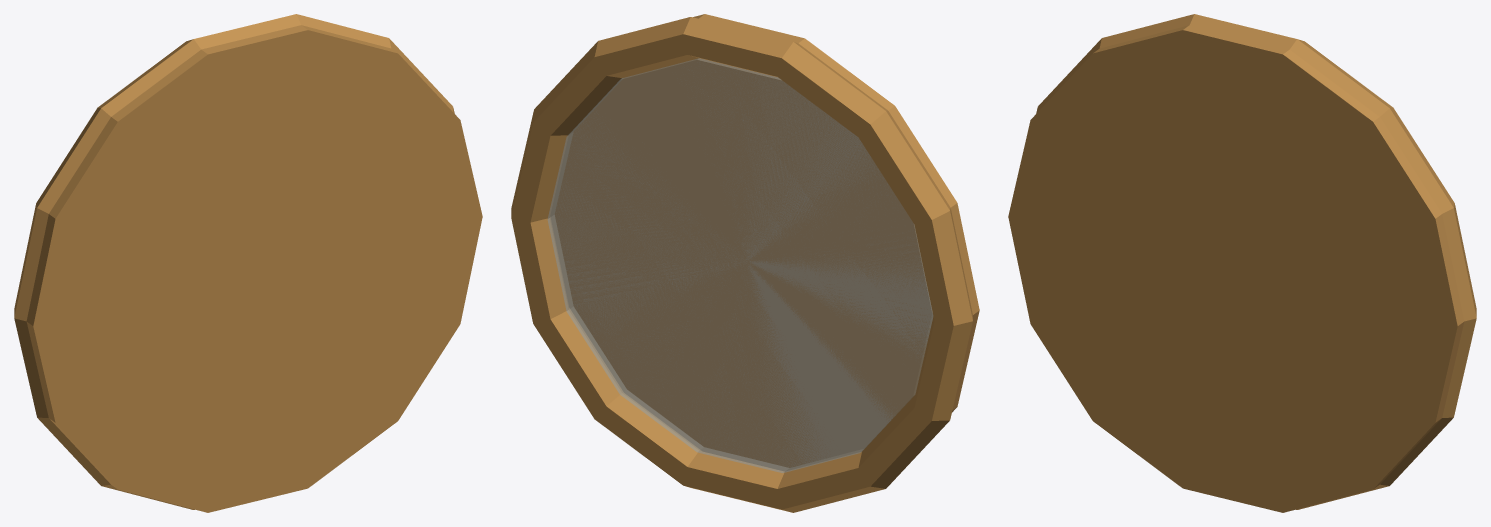
The model's file is SM_LPI_Decor_Mirror_01.fbx.
The picture shows the model from 3 angles, left to right: view 1: azimuth 30°, elevation 25°; view 2: azimuth 150°, elevation 25°; view 3: azimuth 330°, elevation 25°; orthographic projection.
Parts seen in each view (by area): view 1: SM_LPI_Decor_Mirror_01; view 2: SM_LPI_Decor_Mirror_01; view 3: SM_LPI_Decor_Mirror_01.
Boxes of the visible parts, <box> form: SM_LPI_Decor_Mirror_01: <box>14,14,482,512</box>; SM_LPI_Decor_Mirror_01: <box>511,14,979,512</box>; SM_LPI_Decor_Mirror_01: <box>1008,14,1476,512</box>.
Bounding box in the file's own units: 0.6 × 0.585 × 0.0507.
